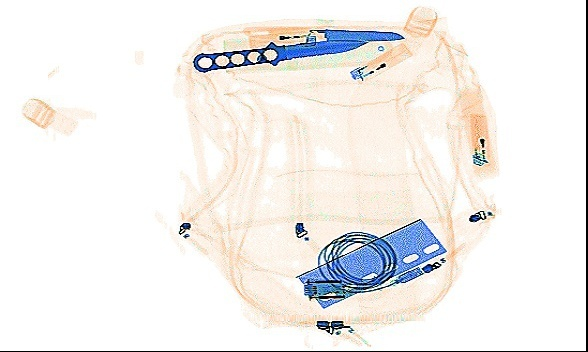knife: (190, 37, 368, 75), (238, 25, 406, 43)
lighter: (346, 39, 412, 86), (468, 110, 494, 176), (244, 30, 316, 49)
